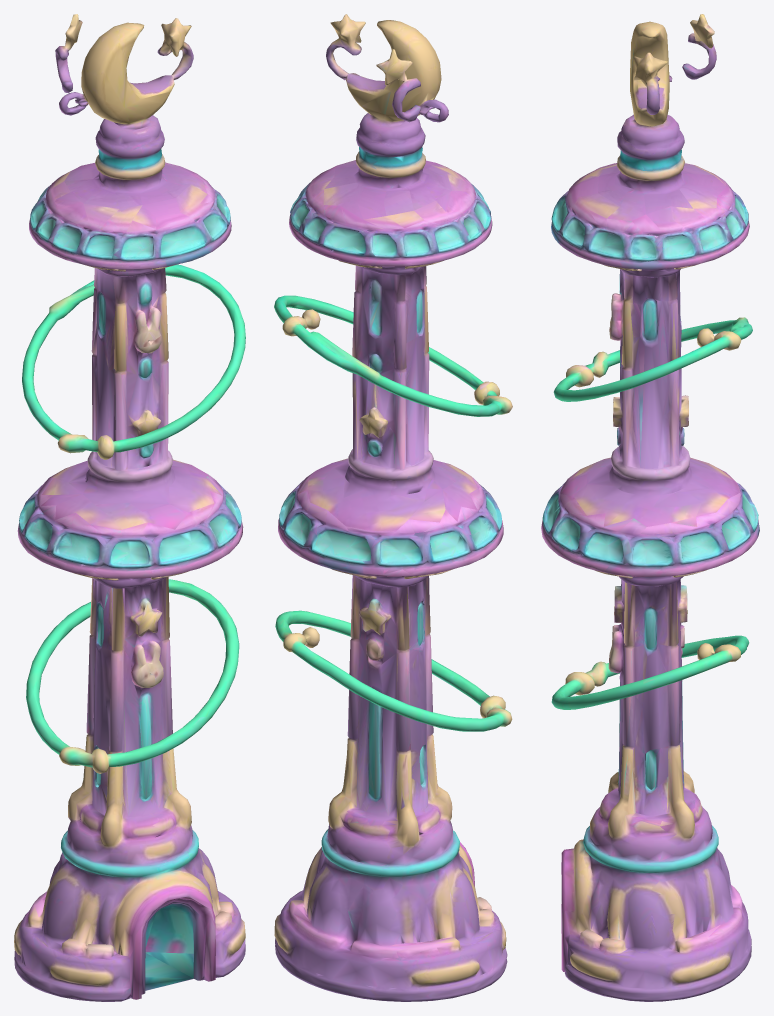
The model's file is roadmap.glb.
The picture shows the model from 3 angles, left to right: view 1: azimuth 30°, elevation 25°; view 2: azimuth 150°, elevation 25°; view 3: azimuth 270°, elevation 25°; orthographic projection.
Visible parts, largest first — view 1: R08_moon-tower; view 2: R08_moon-tower; view 3: R08_moon-tower.
Boxes of the visible parts, x1,y1,x2,y2 form: R08_moon-tower: (14, 14, 245, 1001); R08_moon-tower: (274, 14, 512, 1001); R08_moon-tower: (541, 14, 759, 1001).
Bounding box in the file's own units: 0.2346 × 1 × 0.2142.
Materials: 1 (1 with a texture image).
